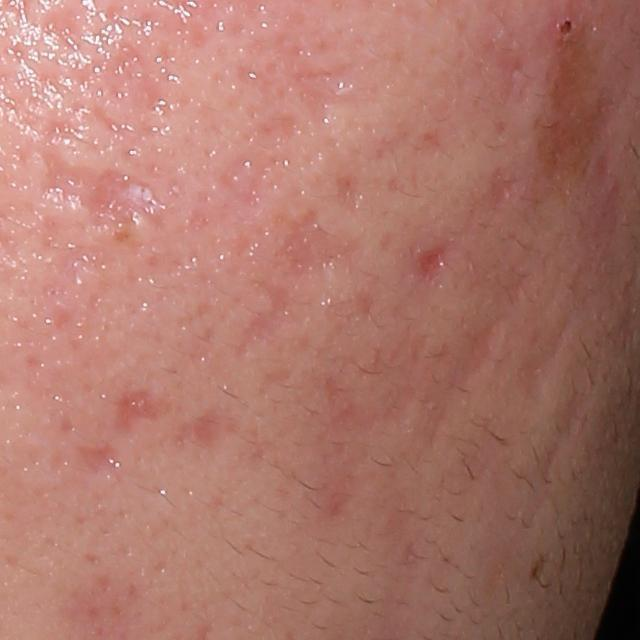atrophic_scar: (7, 143, 206, 245), (322, 365, 412, 523), (543, 334, 605, 482), (260, 203, 365, 282), (472, 11, 530, 152), (277, 35, 369, 121), (511, 317, 573, 399), (449, 312, 508, 396), (235, 280, 290, 366), (122, 383, 184, 448), (173, 406, 238, 454), (37, 6, 93, 61), (72, 441, 124, 482), (487, 163, 519, 215), (412, 248, 451, 282), (338, 172, 367, 211)
